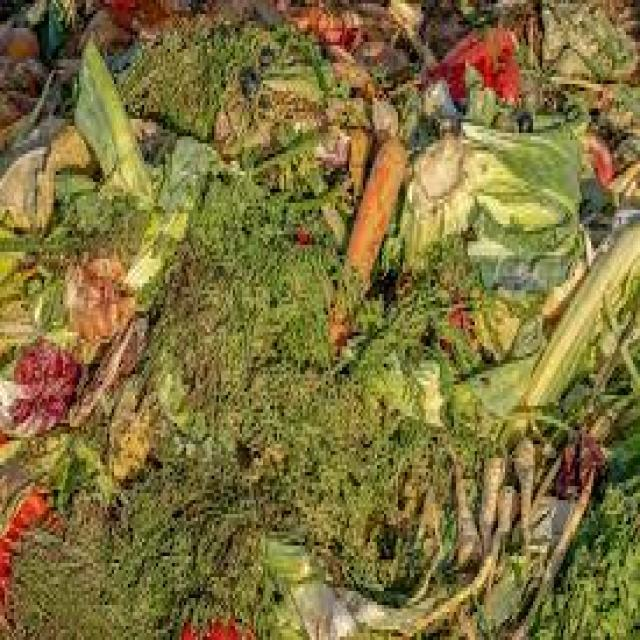Organik: (137, 161, 405, 484), (372, 335, 639, 640), (5, 7, 266, 316), (315, 114, 593, 390), (6, 476, 338, 639), (309, 21, 610, 193), (0, 294, 158, 490)
